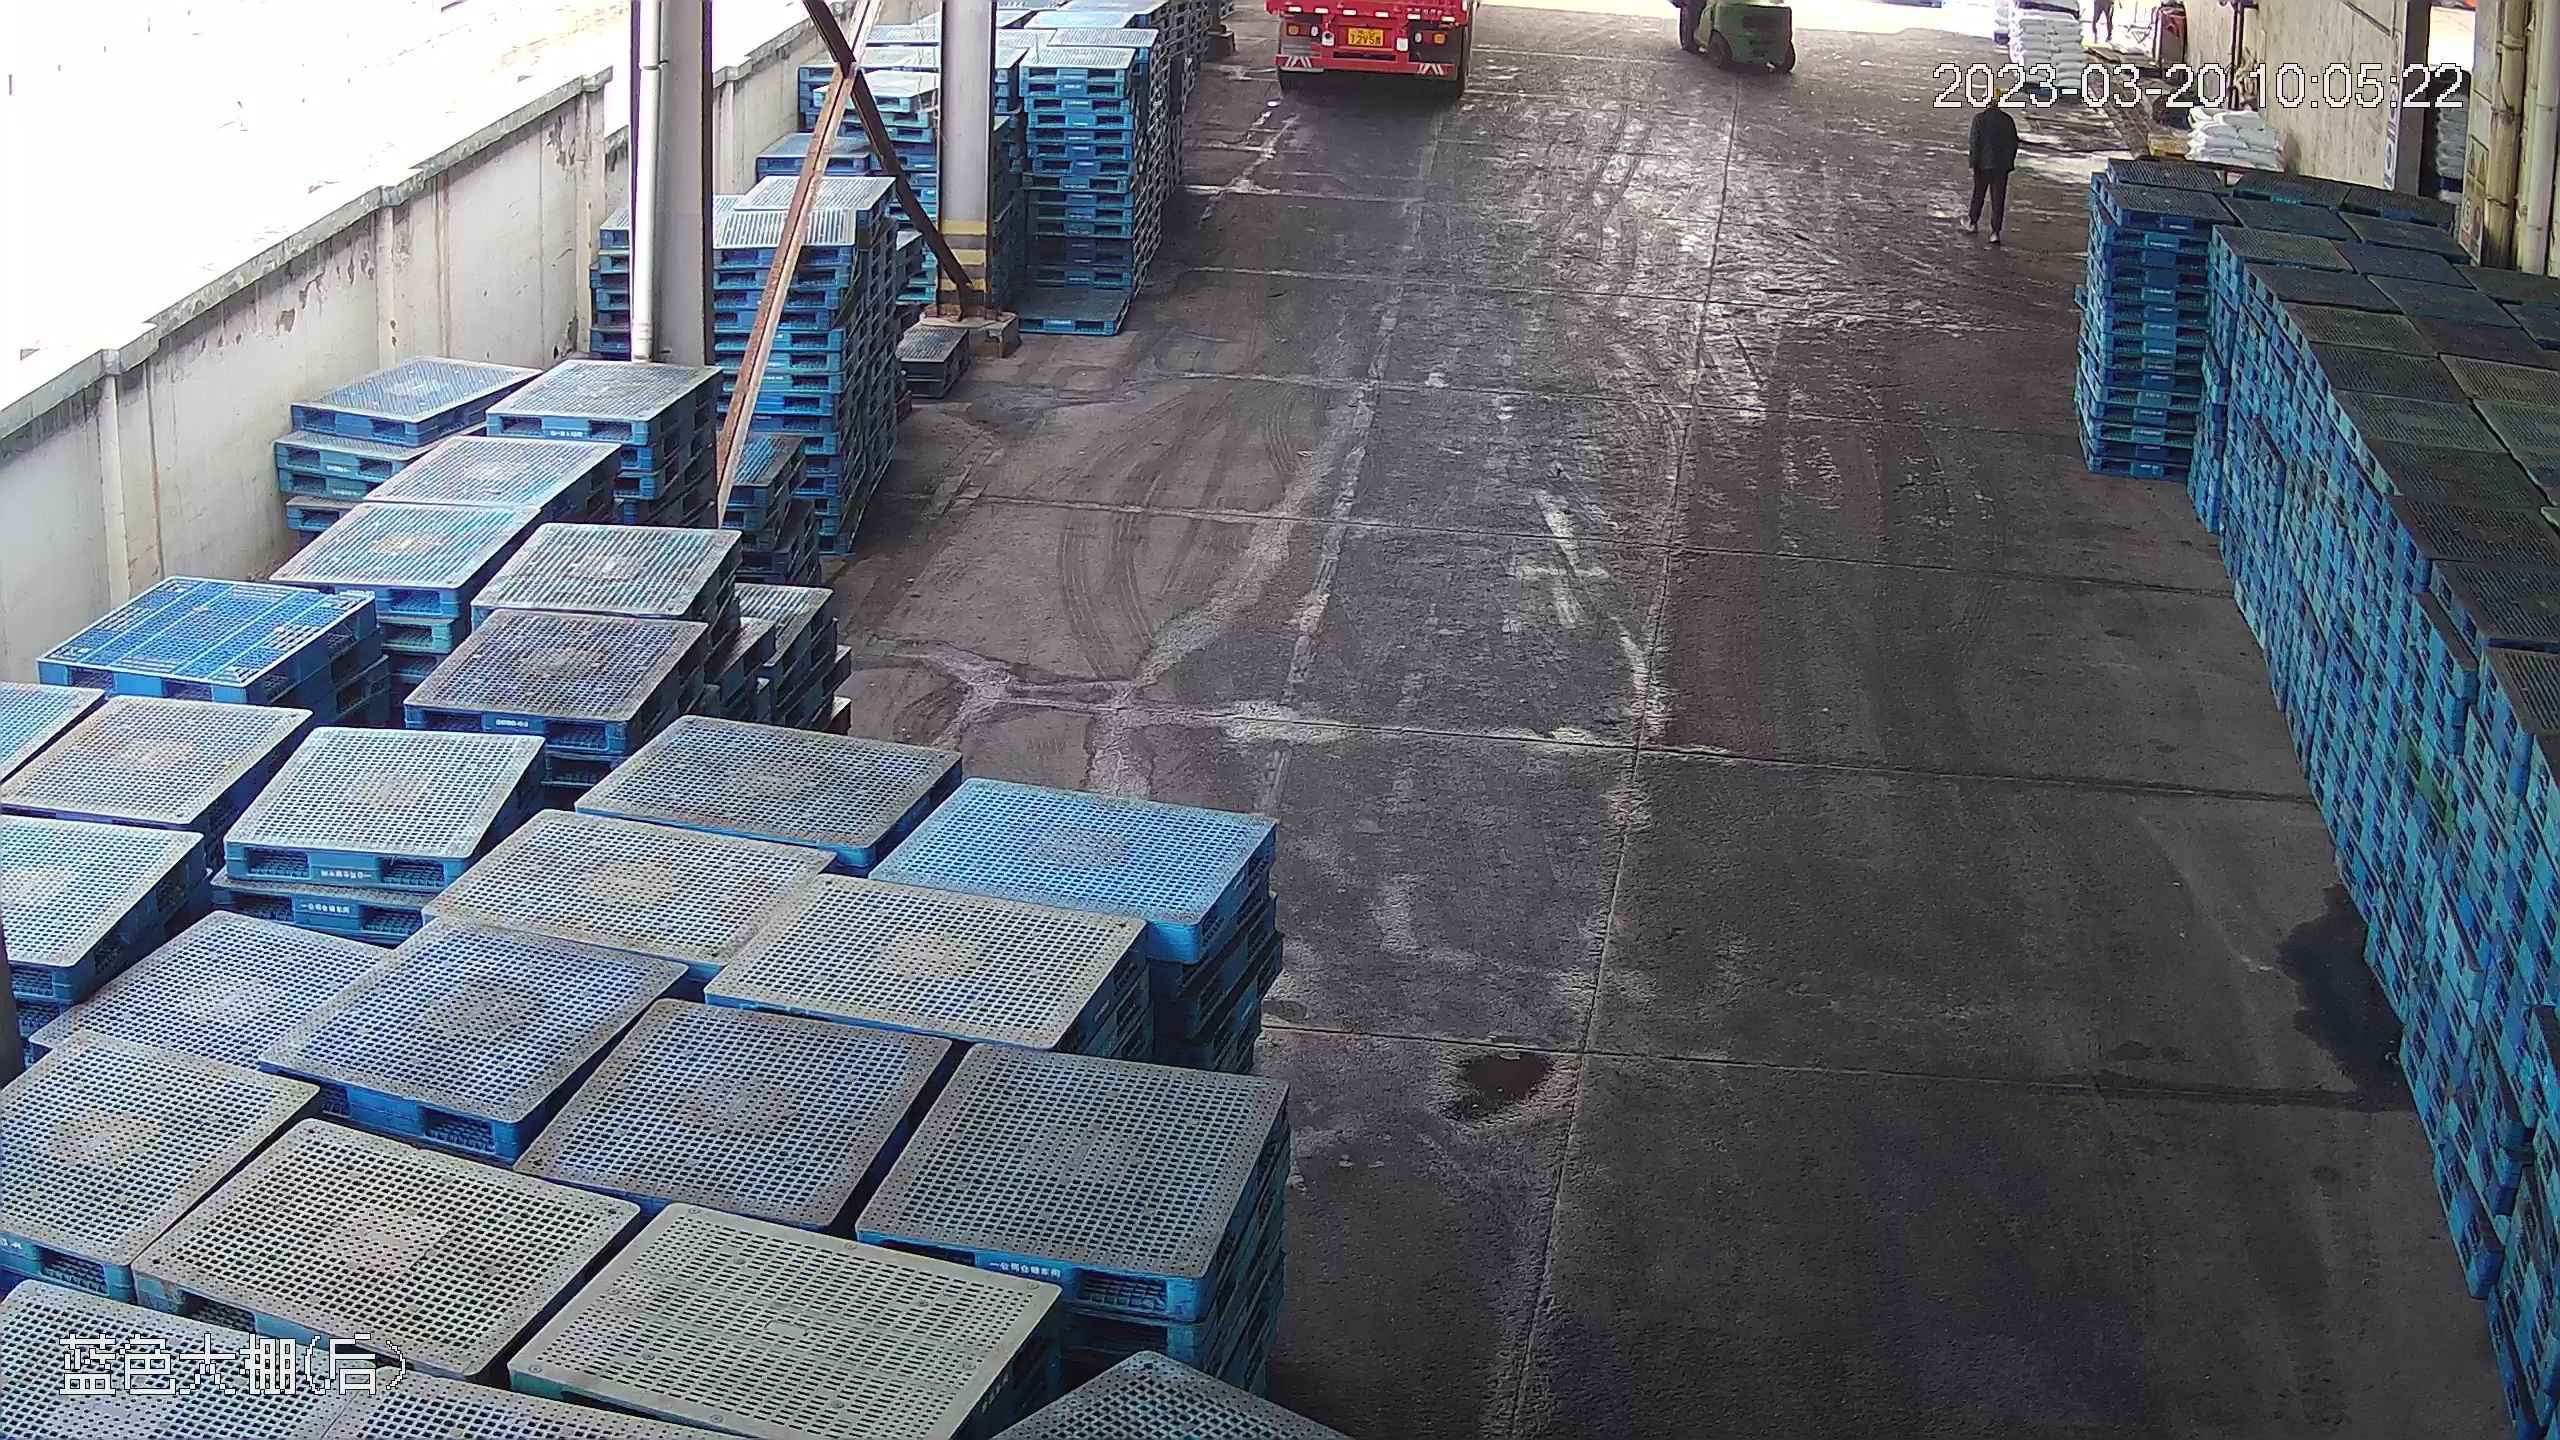head: (1972, 82, 2018, 134)
helmet: (1991, 81, 2017, 101)
people: (1963, 82, 2021, 244)
